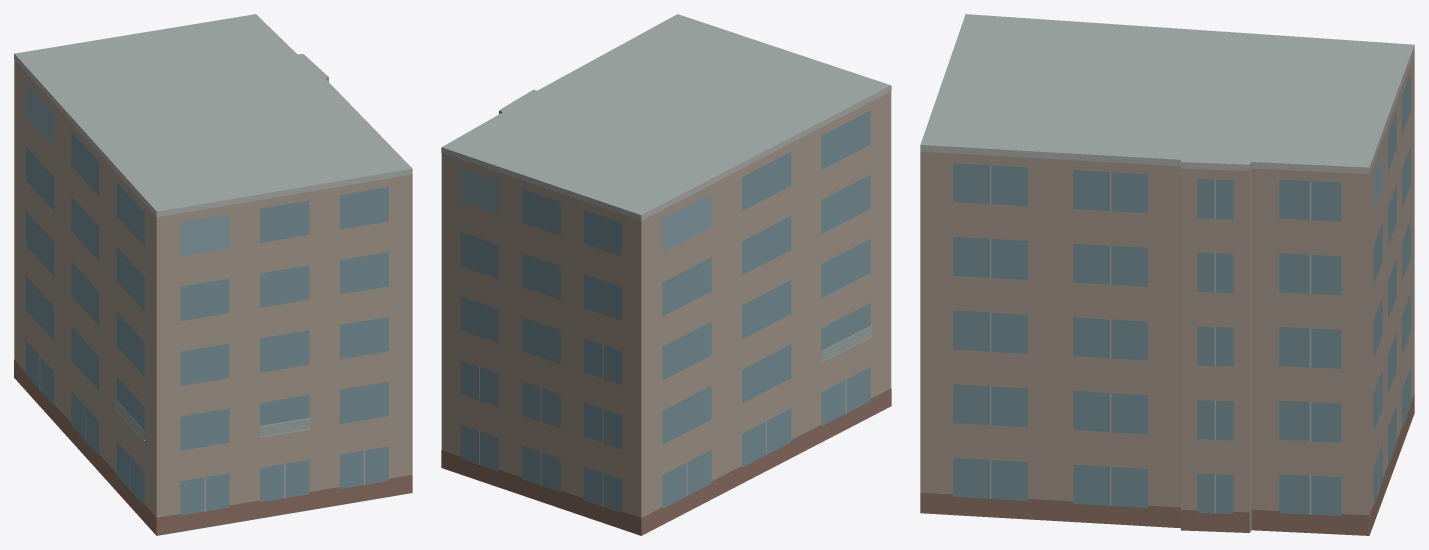
File: survey-upis-32741758.glb
The picture shows the model from 3 angles, left to right: view 1: azimuth 30°, elevation 25°; view 2: azimuth 150°, elevation 25°; view 3: azimuth 270°, elevation 25°; orthographic projection. The views are drawn at different scales.
Parts seen in each view (by area): view 1: survey-upis-32741758.tmp; view 2: survey-upis-32741758.tmp; view 3: survey-upis-32741758.tmp.
Part boxes in pixels (left/top/right/bottom): survey-upis-32741758.tmp: left=14, top=14, right=412, bottom=535; survey-upis-32741758.tmp: left=441, top=14, right=891, bottom=535; survey-upis-32741758.tmp: left=920, top=14, right=1414, bottom=535.
Bounding box in the file's own units: 12.26 × 13.7 × 16.68.
